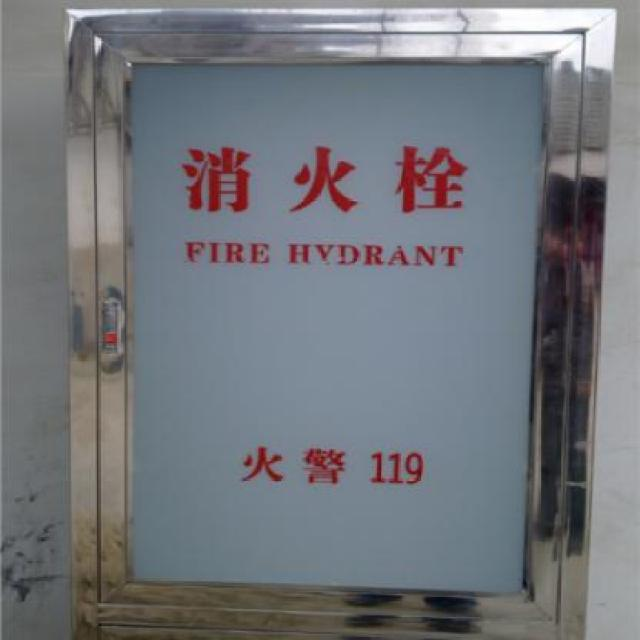firehydrant: (56, 1, 618, 640)
